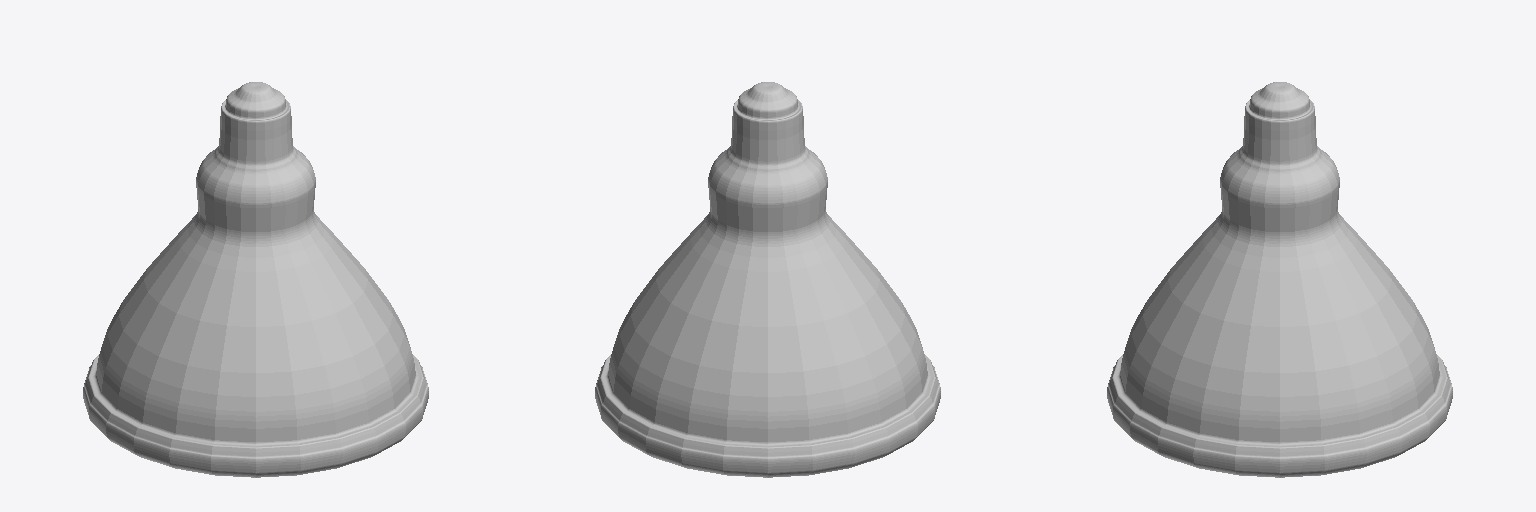
File: light_rightfront.obj
3 renders of one model, left to right at view 1: azimuth 30°, elevation 25°; view 2: azimuth 150°, elevation 25°; view 3: azimuth 270°, elevation 25°, orthographic.
Parts seen in each view (by area): view 1: Sealed_Beam003; view 2: Sealed_Beam003; view 3: Sealed_Beam003.
Boxes of the visible parts, <box> form: Sealed_Beam003: <box>83,82,428,477</box>; Sealed_Beam003: <box>595,82,940,477</box>; Sealed_Beam003: <box>1107,82,1452,477</box>.
Bounding box in the file's own units: 29.31 × 31.69 × 29.31.